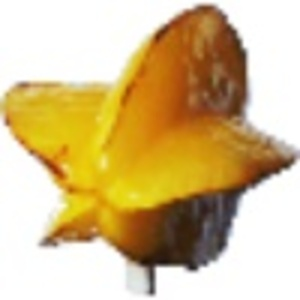carambola: (1, 2, 300, 293)
